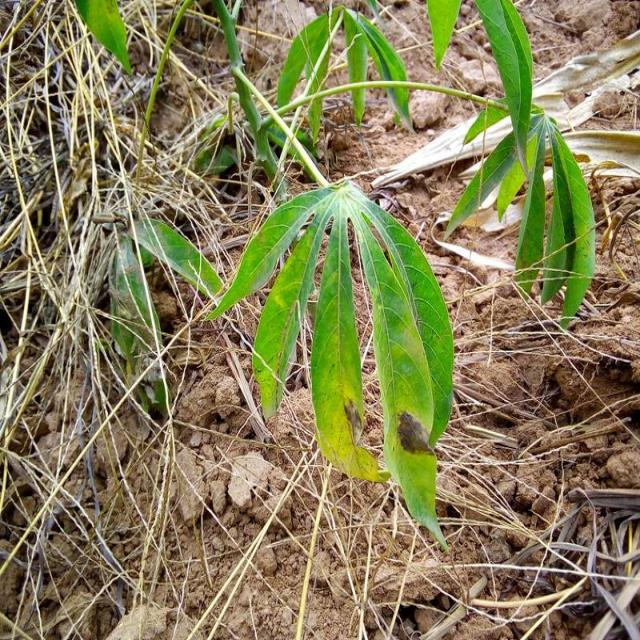cassava leaf: (204, 176, 454, 551)
